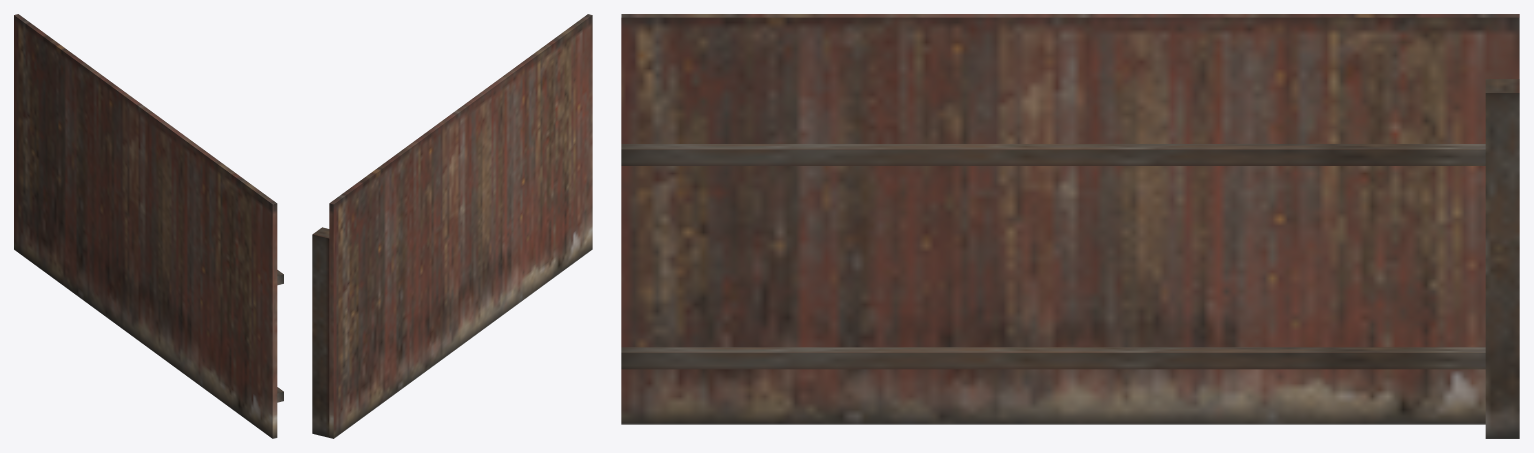
The model's file is wooden fence.fbx.
The picture shows the model from 3 angles, left to right: view 1: azimuth 30°, elevation 25°; view 2: azimuth 150°, elevation 25°; view 3: azimuth 270°, elevation 25°; orthographic projection. The views are drawn at different scales.
Visible parts, largest first — view 1: model_0; view 2: model_0; view 3: model_0.
Part boxes in pixels (box(x1,y1,x2,y2)): model_0: box(14, 14, 283, 438); model_0: box(312, 14, 592, 438); model_0: box(621, 14, 1519, 438).
Size of the model in its own units: 19.02 by 200 by 400.
Materials: 1 (1 with a texture image).
